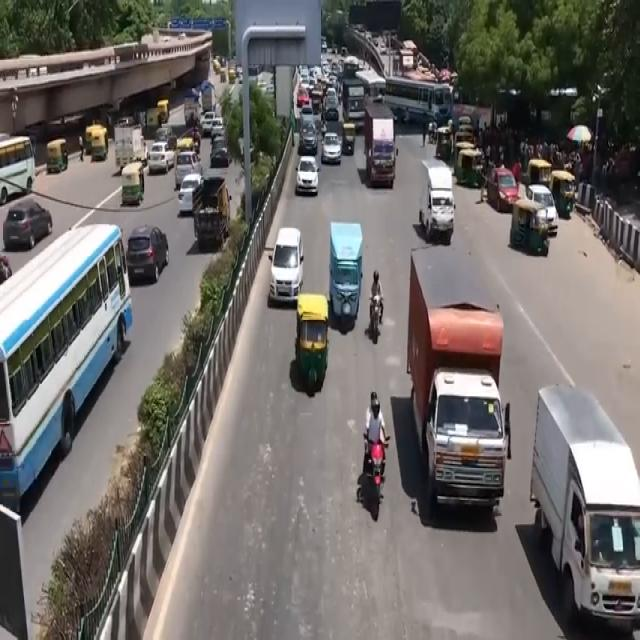BUS: (0, 227, 128, 519), (386, 72, 454, 122)
MOTORCYCLE: (365, 439, 386, 523), (368, 293, 382, 344)
TRUCK: (408, 252, 509, 528), (534, 384, 639, 634), (362, 110, 396, 188)
